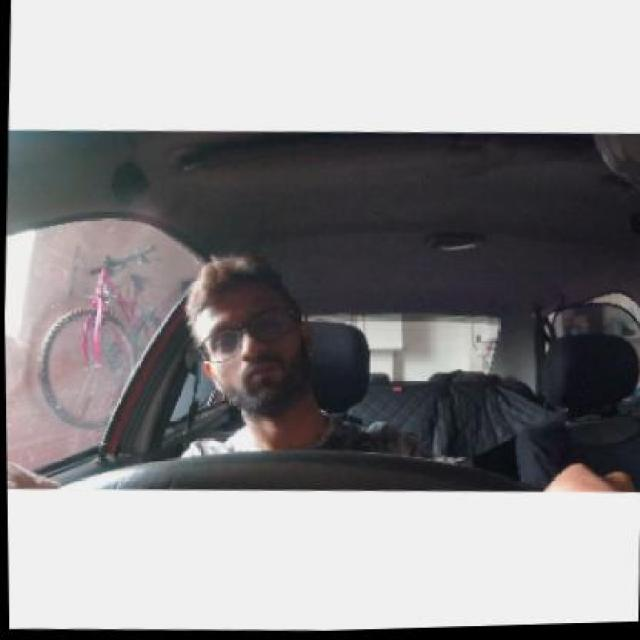person: (164, 258, 330, 418)
